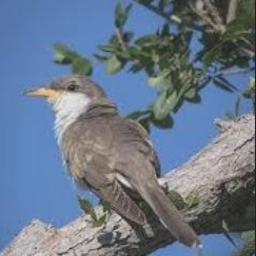Cuckoo: (22, 75, 202, 249)
